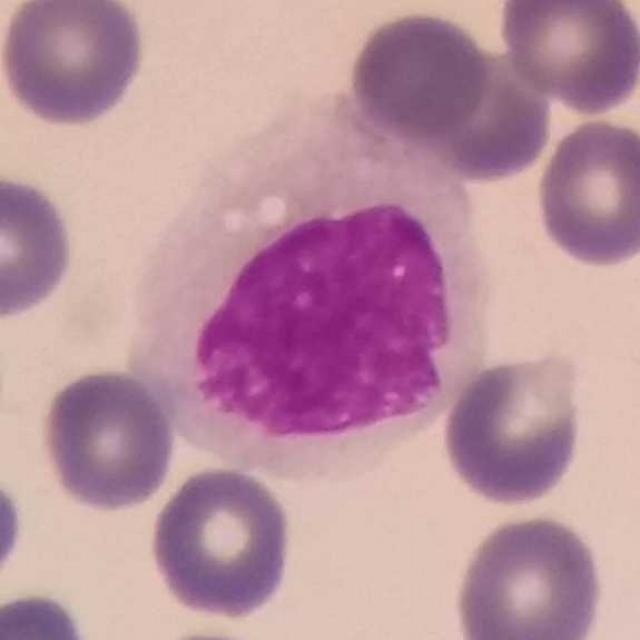Monocyte: (132, 84, 511, 499)
RBC: (378, 34, 554, 185), (437, 346, 590, 511), (145, 462, 298, 623), (36, 364, 179, 515), (450, 510, 608, 640), (344, 7, 495, 142), (0, 0, 150, 129), (494, 0, 640, 116), (532, 114, 640, 270), (0, 169, 79, 325), (0, 587, 93, 640), (0, 468, 29, 594), (134, 625, 298, 640)
